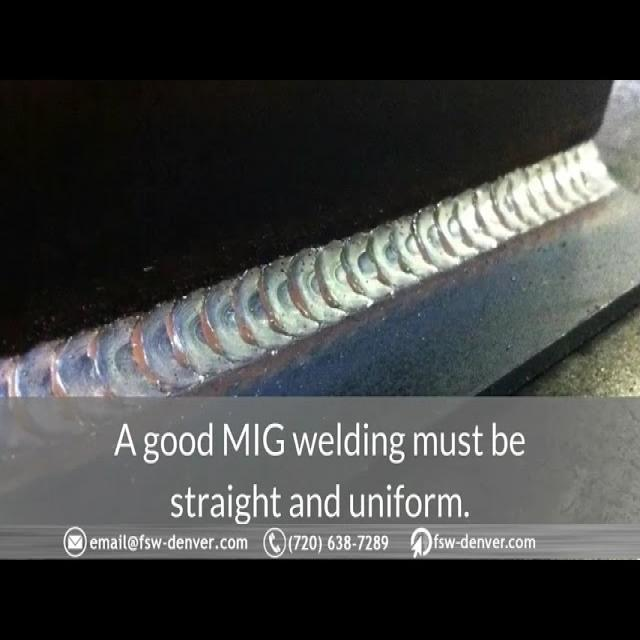Good Welding: (102, 284, 331, 392), (338, 204, 537, 316)
